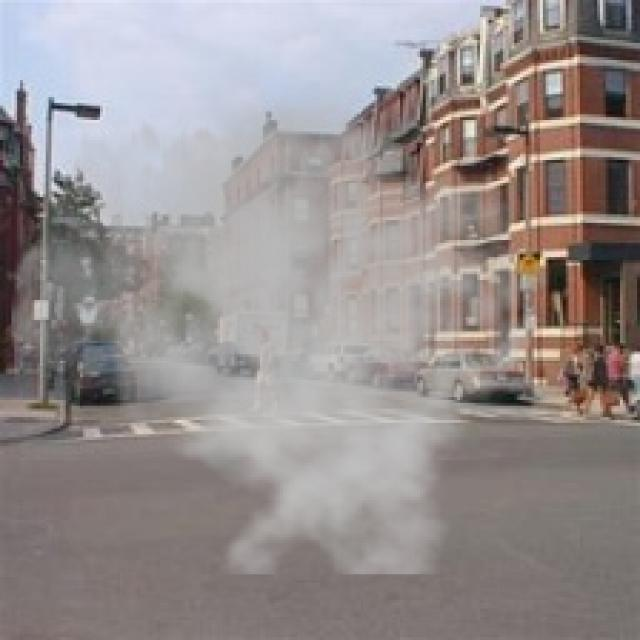smoke: (9, 52, 554, 574)
